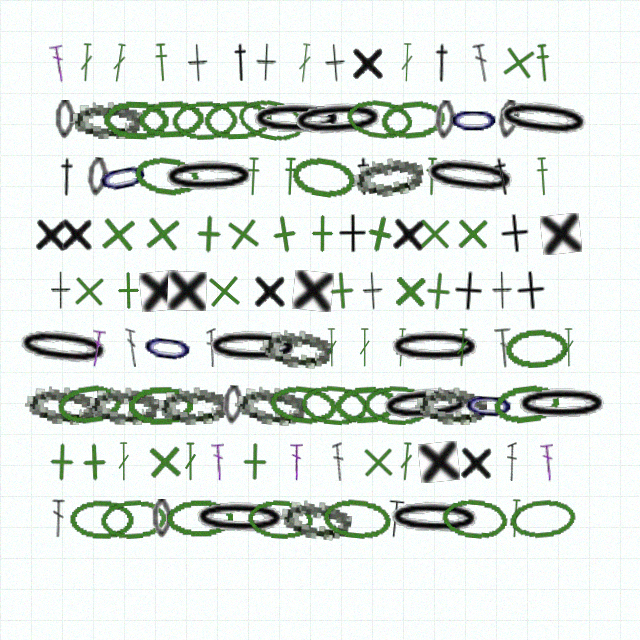chain: (419, 152, 521, 202), (13, 323, 114, 373), (493, 95, 594, 144), (377, 382, 477, 428), (288, 98, 388, 142), (385, 498, 484, 539), (204, 327, 302, 368), (191, 498, 289, 539), (160, 157, 258, 197), (235, 94, 309, 146), (248, 100, 346, 139), (386, 328, 484, 367), (513, 385, 611, 424), (349, 152, 426, 201), (278, 496, 353, 542), (289, 153, 359, 201), (344, 96, 414, 143), (132, 153, 202, 200), (55, 381, 125, 428), (491, 381, 561, 428), (267, 382, 338, 428), (234, 383, 308, 427), (321, 496, 392, 541), (24, 383, 98, 426), (440, 496, 510, 541), (299, 383, 370, 427), (508, 497, 578, 541), (260, 327, 333, 369), (156, 384, 229, 426), (379, 98, 448, 142), (246, 498, 315, 540), (93, 153, 153, 201), (87, 385, 159, 425), (415, 385, 487, 425), (363, 384, 431, 426), (99, 498, 167, 540), (203, 99, 272, 140), (333, 384, 400, 426), (70, 100, 142, 139), (504, 327, 570, 369), (102, 99, 169, 140), (137, 99, 204, 140), (171, 100, 239, 140), (127, 385, 193, 425), (69, 499, 135, 539), (166, 499, 233, 538), (139, 325, 197, 370), (461, 384, 517, 426), (447, 100, 501, 139), (496, 99, 521, 140), (86, 157, 109, 197), (434, 100, 456, 140), (222, 385, 244, 425), (55, 100, 75, 139), (152, 499, 172, 538)
double: (472, 43, 492, 83), (494, 328, 514, 368), (49, 43, 68, 83), (386, 499, 405, 539), (110, 43, 128, 83), (88, 328, 106, 368), (296, 43, 313, 83), (540, 442, 556, 482), (398, 442, 414, 481), (79, 43, 94, 82), (394, 328, 409, 367), (455, 328, 470, 367), (211, 442, 226, 481), (508, 499, 523, 538), (400, 43, 414, 82), (125, 328, 139, 367), (325, 328, 338, 367), (358, 328, 371, 367), (562, 328, 575, 367), (117, 442, 130, 481), (184, 442, 197, 481), (290, 442, 303, 481), (332, 442, 345, 481), (52, 499, 65, 538), (206, 328, 218, 367), (507, 442, 517, 481)
half_double: (489, 156, 516, 197), (430, 43, 454, 83), (55, 157, 79, 197), (230, 43, 252, 82), (353, 157, 375, 196), (534, 43, 552, 83), (153, 43, 170, 82), (534, 157, 551, 196), (245, 157, 261, 196), (282, 157, 298, 196), (424, 157, 440, 196)
single: (357, 211, 403, 257), (496, 40, 541, 85), (221, 212, 265, 256), (262, 212, 306, 256), (141, 212, 184, 255), (97, 213, 139, 255), (540, 213, 582, 255), (139, 270, 181, 312), (203, 270, 245, 312), (292, 270, 334, 312), (417, 270, 459, 312), (418, 441, 460, 483), (321, 270, 362, 311), (144, 441, 185, 482), (189, 214, 229, 254), (69, 271, 109, 311), (167, 271, 207, 311), (390, 271, 430, 311), (42, 442, 82, 482), (74, 442, 114, 482), (358, 442, 398, 482), (390, 213, 428, 254), (303, 214, 342, 253), (415, 214, 454, 253), (453, 214, 492, 253), (109, 271, 148, 310), (235, 442, 274, 481), (33, 214, 70, 254), (458, 442, 495, 482), (350, 43, 386, 82), (59, 214, 95, 253), (252, 271, 288, 310), (498, 213, 531, 254), (514, 270, 547, 311), (452, 271, 484, 311), (337, 214, 367, 253), (324, 43, 347, 83), (187, 43, 209, 83), (362, 271, 384, 311), (256, 43, 277, 82), (492, 271, 513, 310), (51, 271, 71, 310)
